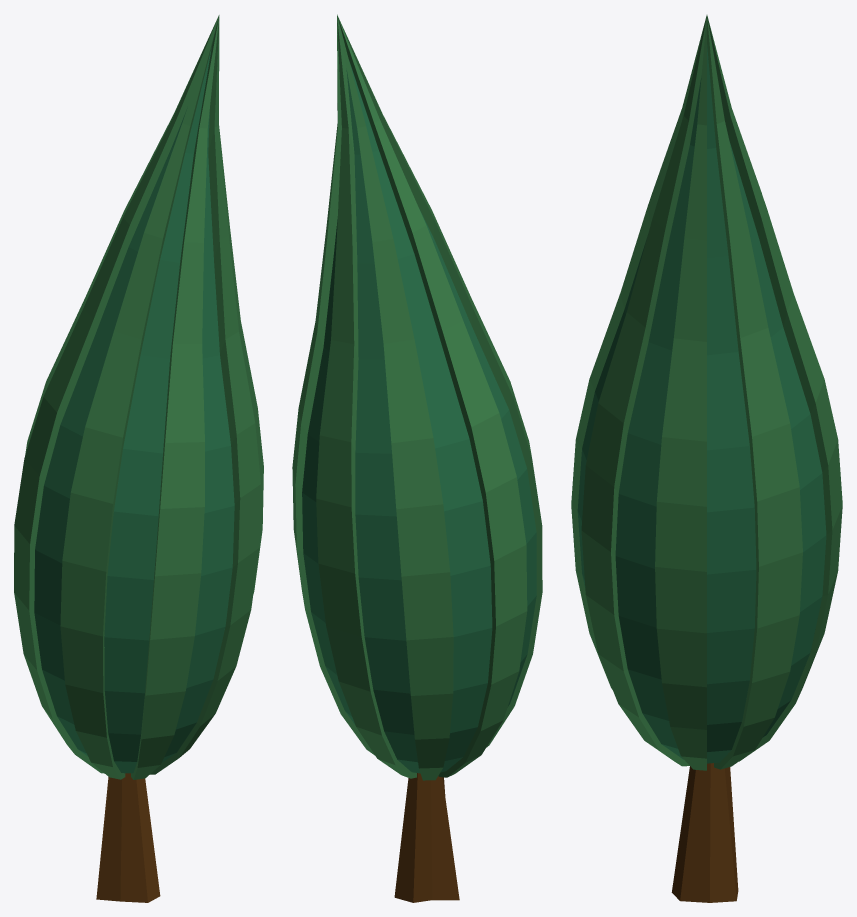
Rendered from FirTree.glb.
3 renders of one model, left to right at view 1: azimuth 30°, elevation 25°; view 2: azimuth 150°, elevation 25°; view 3: azimuth 270°, elevation 25°, orthographic. The views are drawn at different scales.
Visible parts, largest first — view 1: Sphere, Cone; view 2: Sphere, Cone; view 3: Sphere, Cone.
Part boxes in pixels (left/top/right/bottom): Sphere: left=14, top=15, right=263, bottom=779; Cone: left=96, top=773, right=160, bottom=902; Sphere: left=292, top=14, right=542, bottom=780; Cone: left=394, top=773, right=459, bottom=902; Sphere: left=571, top=15, right=842, bottom=770; Cone: left=671, top=763, right=738, bottom=902.
Bounding box in the file's own units: 2.91 × 10.83 × 2.88.
